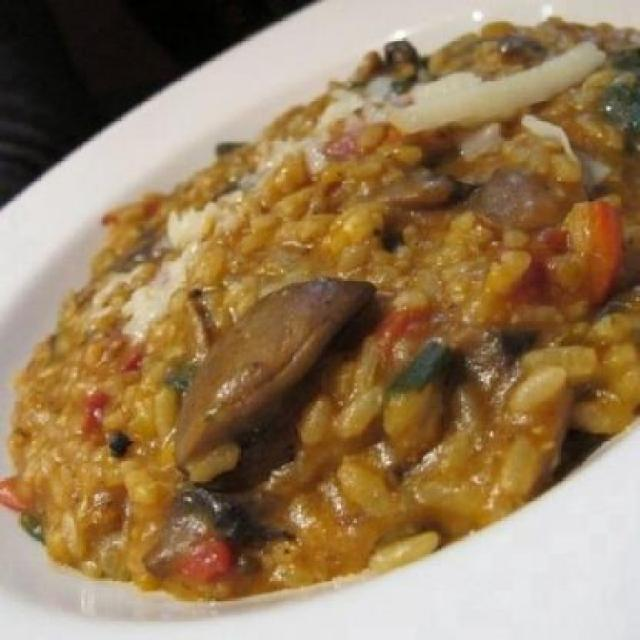Risotto: (19, 71, 632, 574)
